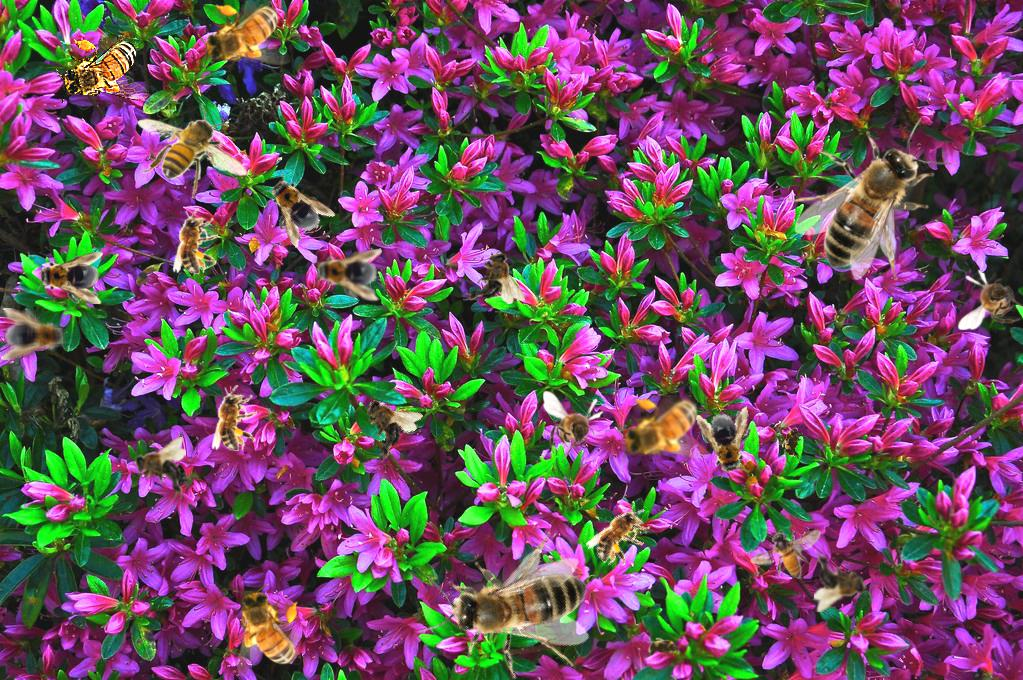Bee: (396, 492, 629, 680), (786, 118, 953, 280), (137, 105, 248, 199), (251, 164, 337, 250), (345, 383, 426, 465), (233, 584, 301, 677), (56, 36, 149, 104), (617, 395, 710, 463), (198, 1, 291, 69), (583, 494, 661, 575), (695, 404, 761, 482), (543, 391, 604, 461), (958, 269, 1023, 330), (312, 246, 382, 302), (750, 529, 821, 579), (35, 252, 103, 304), (1, 308, 69, 360), (463, 251, 525, 304), (133, 437, 186, 499), (814, 550, 867, 612), (173, 208, 218, 274), (212, 385, 257, 451), (778, 420, 808, 464), (643, 637, 683, 659)
